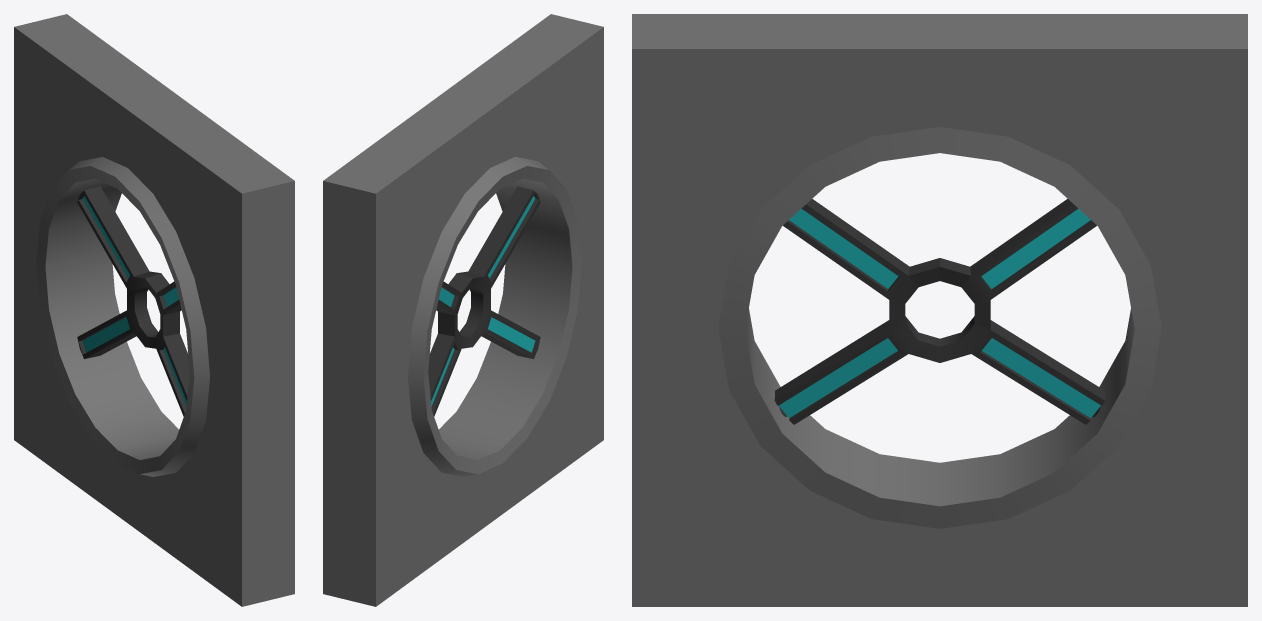
The model's file is SM_B3_Wall3_SM_B3_Wall3.fbx.
3 views of the same model, side by side, from view 1: azimuth 30°, elevation 25°; view 2: azimuth 150°, elevation 25°; view 3: azimuth 270°, elevation 25° (orthographic). The views are drawn at different scales.
Parts seen in each view (by area): view 1: SM_B3_Wall3_SM_B3_Wall3; view 2: SM_B3_Wall3_SM_B3_Wall3; view 3: SM_B3_Wall3_SM_B3_Wall3.
Part boxes in pixels (bbox=[...]): SM_B3_Wall3_SM_B3_Wall3: bbox=[14, 14, 294, 606]; SM_B3_Wall3_SM_B3_Wall3: bbox=[323, 14, 603, 606]; SM_B3_Wall3_SM_B3_Wall3: bbox=[632, 14, 1247, 606].
Bounding box in the file's own units: 70.36 × 406 × 406.
